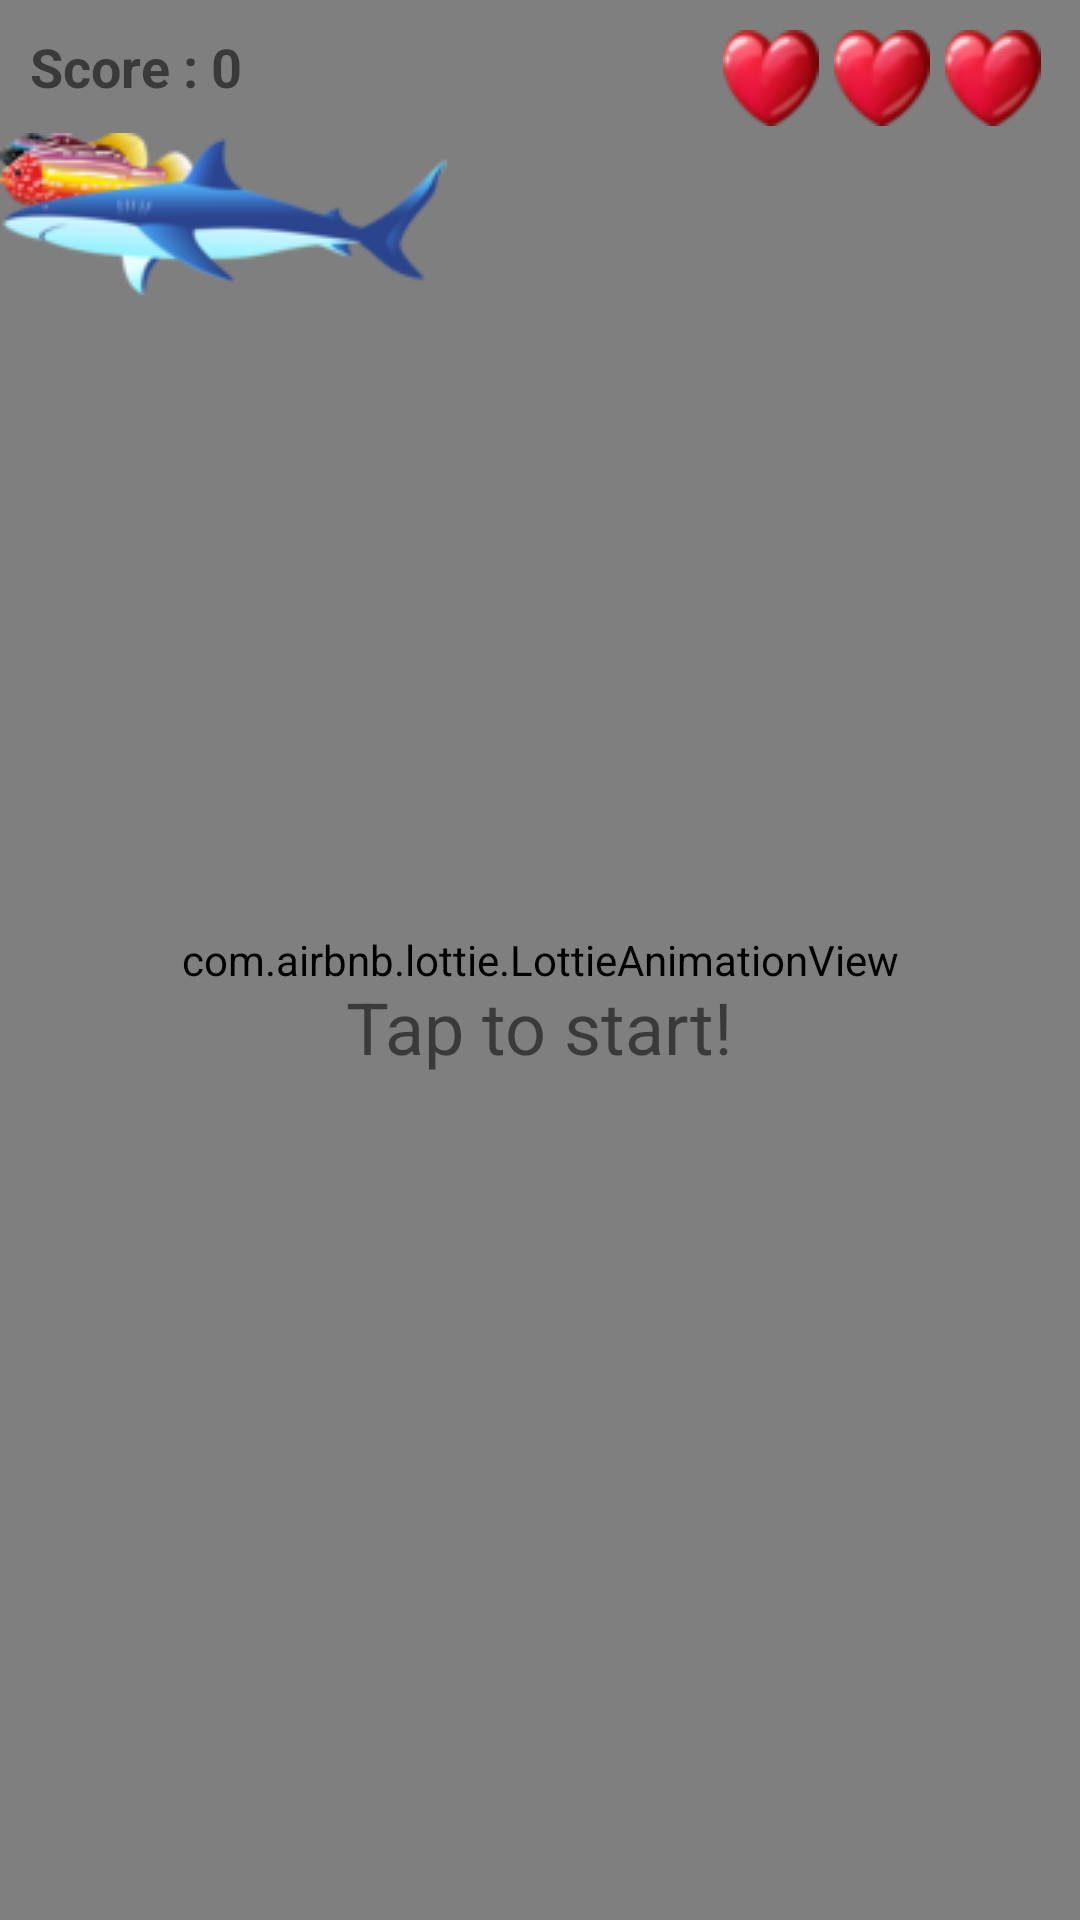

Where to tap for icons on this 1080*1920 app screen, as point (x, y):
full heart: point (771, 78), point (882, 78), point (993, 78)
